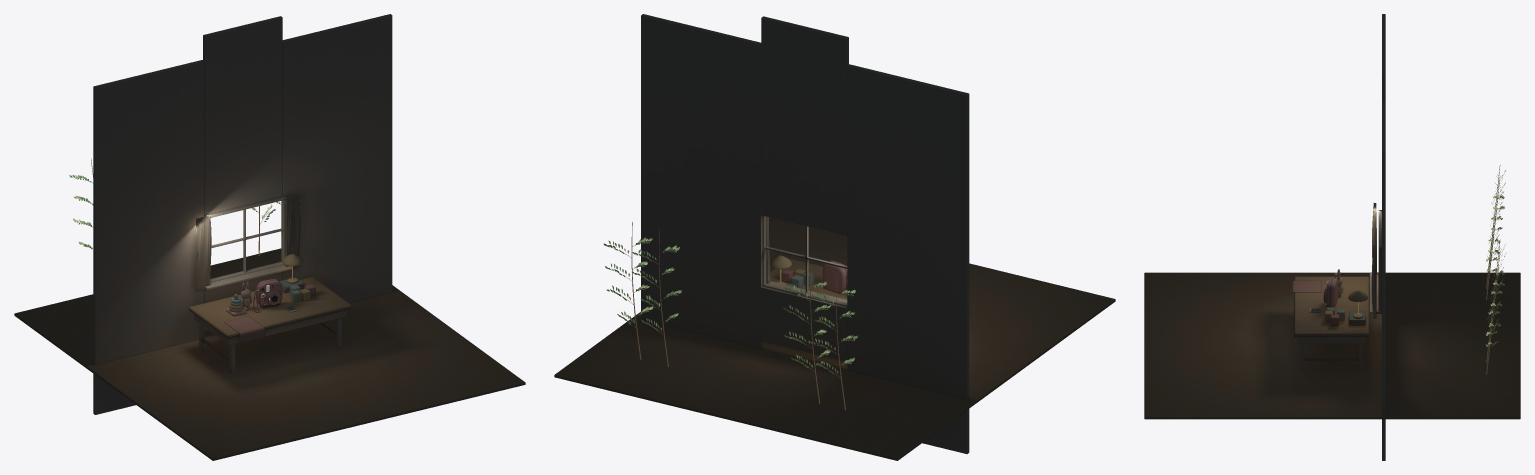
File: entry-scene.glb
The picture shows the model from 3 angles, left to right: view 1: azimuth 30°, elevation 25°; view 2: azimuth 150°, elevation 25°; view 3: azimuth 270°, elevation 25°; orthographic projection. The views are drawn at different scales.
Parts seen in each view (by area): view 1: Baked Room, Baked Tabletop; view 2: Baked Room, Individual garden leaf, Baked Tabletop, Garden stem; view 3: Baked Room, Baked Tabletop, Garden stem, Individual garden leaf.
Boxes of the visible parts, x1,y1,x2,y2 form: Baked Room: (14,14,525,460); Baked Tabletop: (188,254,352,343); Baked Room: (554,14,1115,460); Individual garden leaf: (604,237,857,373); Baked Tabletop: (770,255,847,299); Garden stem: (622,222,850,410); Baked Room: (1144,14,1520,460); Baked Tabletop: (1292,269,1369,336); Garden stem: (1486,165,1500,374); Individual garden leaf: (1485,170,1505,346).
Bounding box in the file's own units: 20 × 21.5 × 22.
95 materials, 80 textured.
